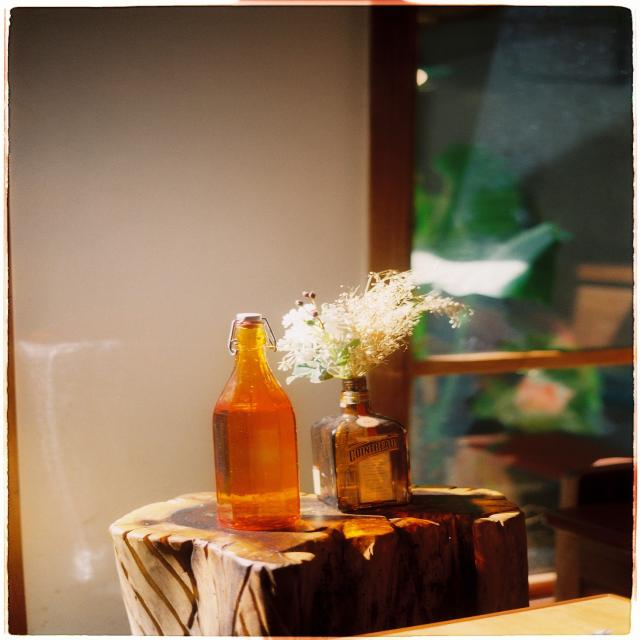Bottle: (214, 314, 300, 529), (312, 377, 410, 511)
